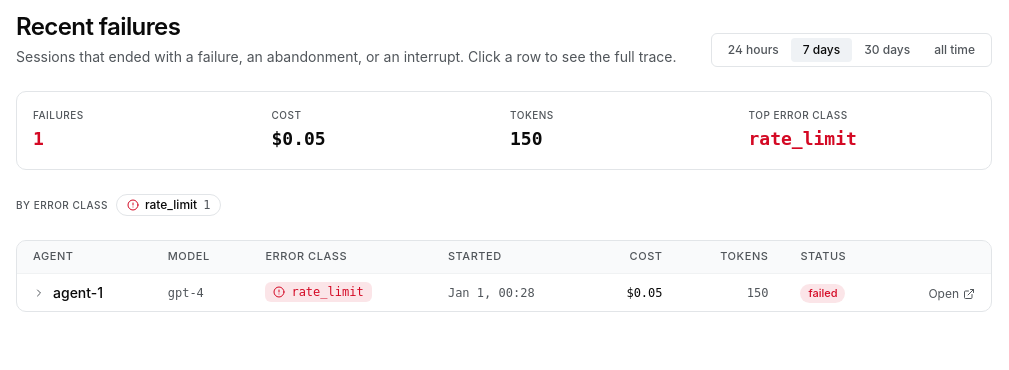
Scenario: Failures page › shows "sub-session" position when parent_session_id is set
Click the row with test id "failure-row-a": [504, 292] box [17,273,991,311]
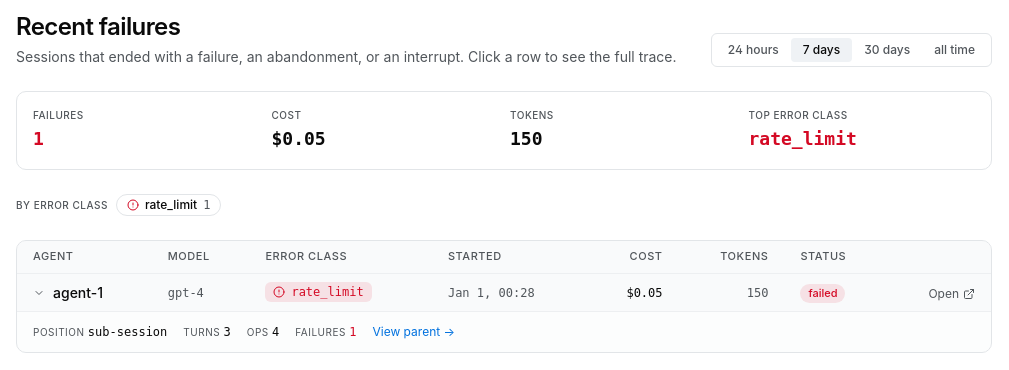
Now the text "sub-session" is shown, box [88,325,167,339]
